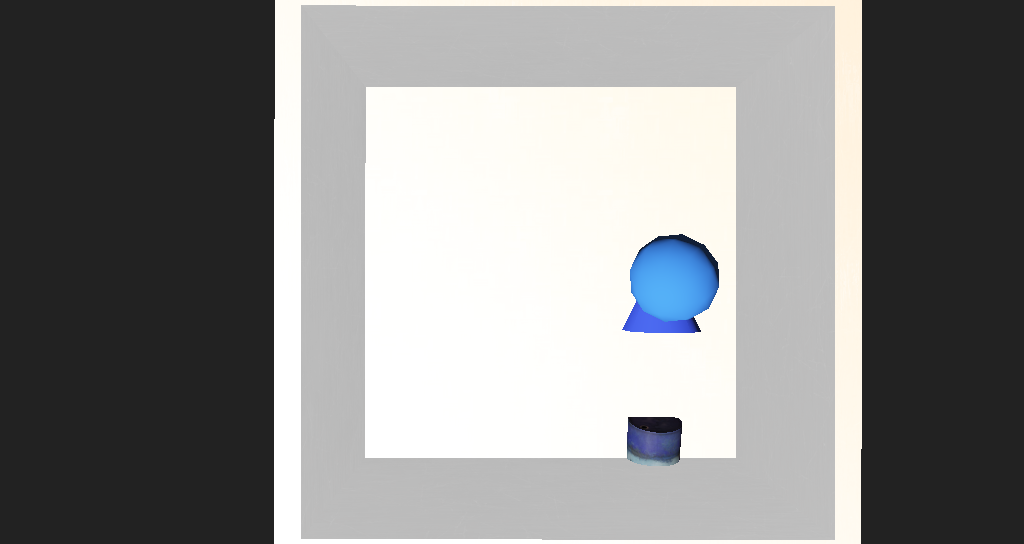cone: (569, 344, 616, 401)
cylinder: (559, 253, 627, 301)
sphere: (563, 248, 637, 296)
